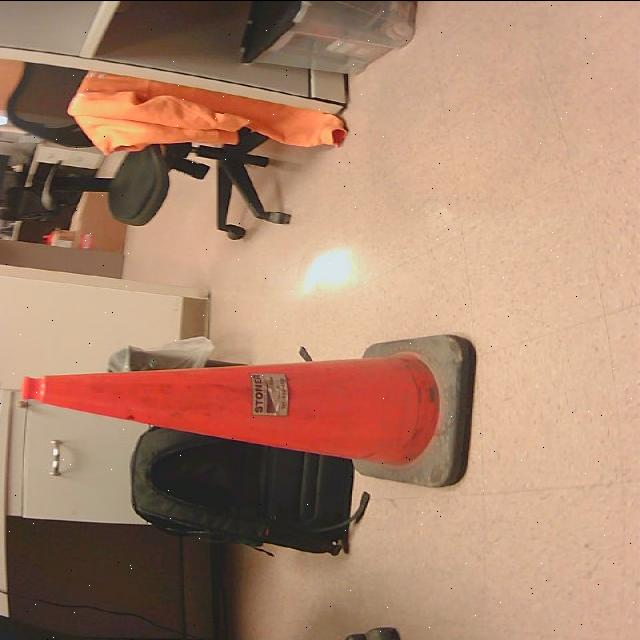traffic cone: (21, 334, 481, 488)
